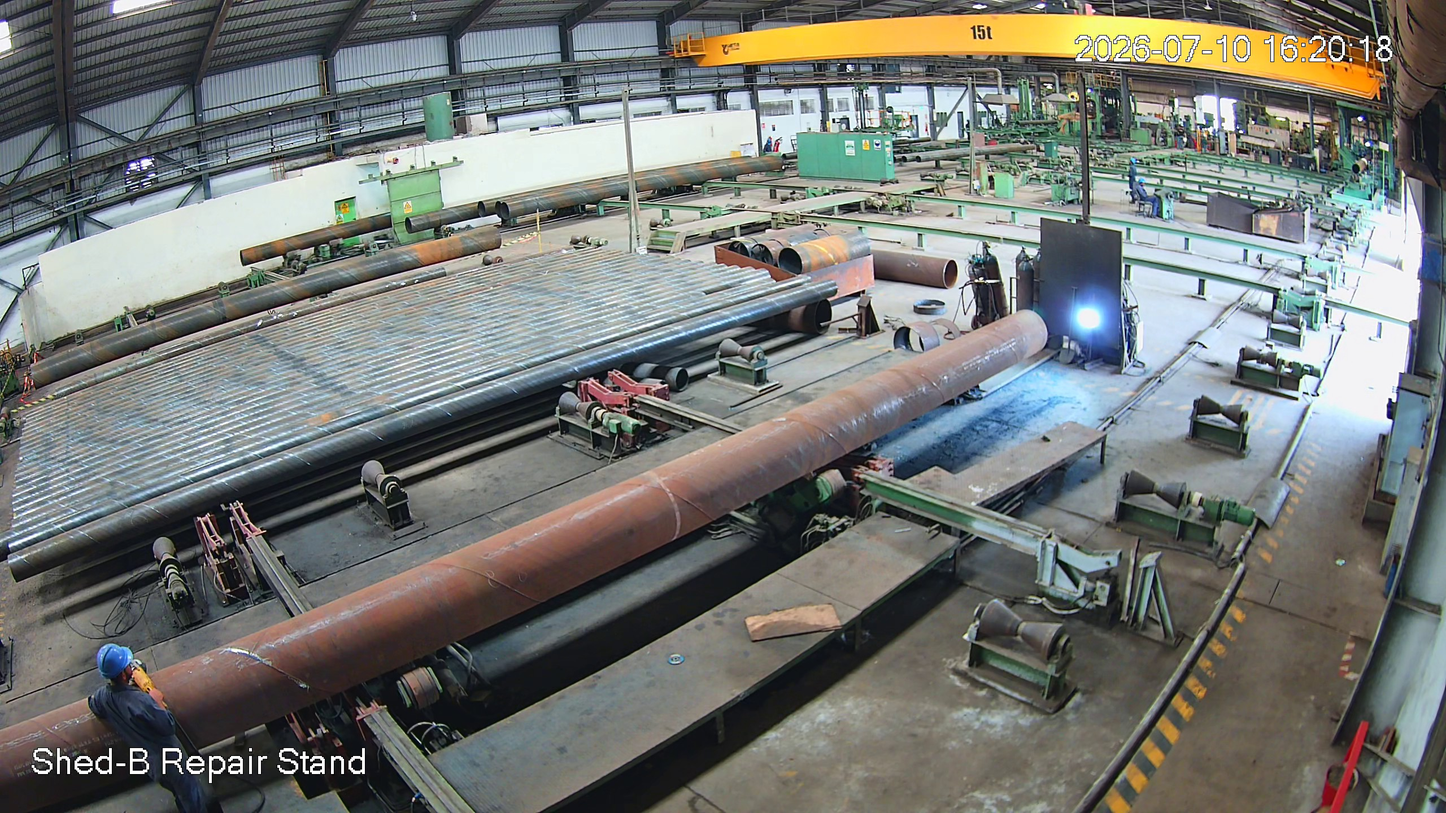Helmet: (90, 637, 152, 702)
Person: (82, 642, 218, 813)
